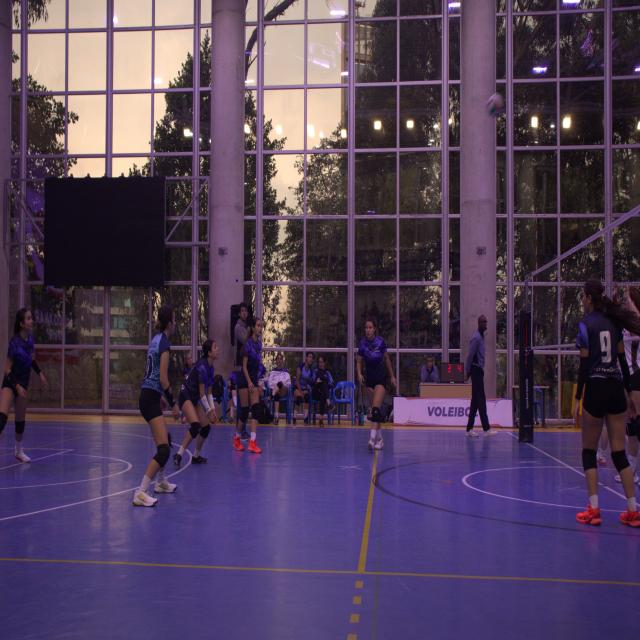volleyball: (487, 92, 505, 117)
